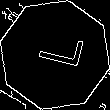L_W: (27, 34, 83, 76)
